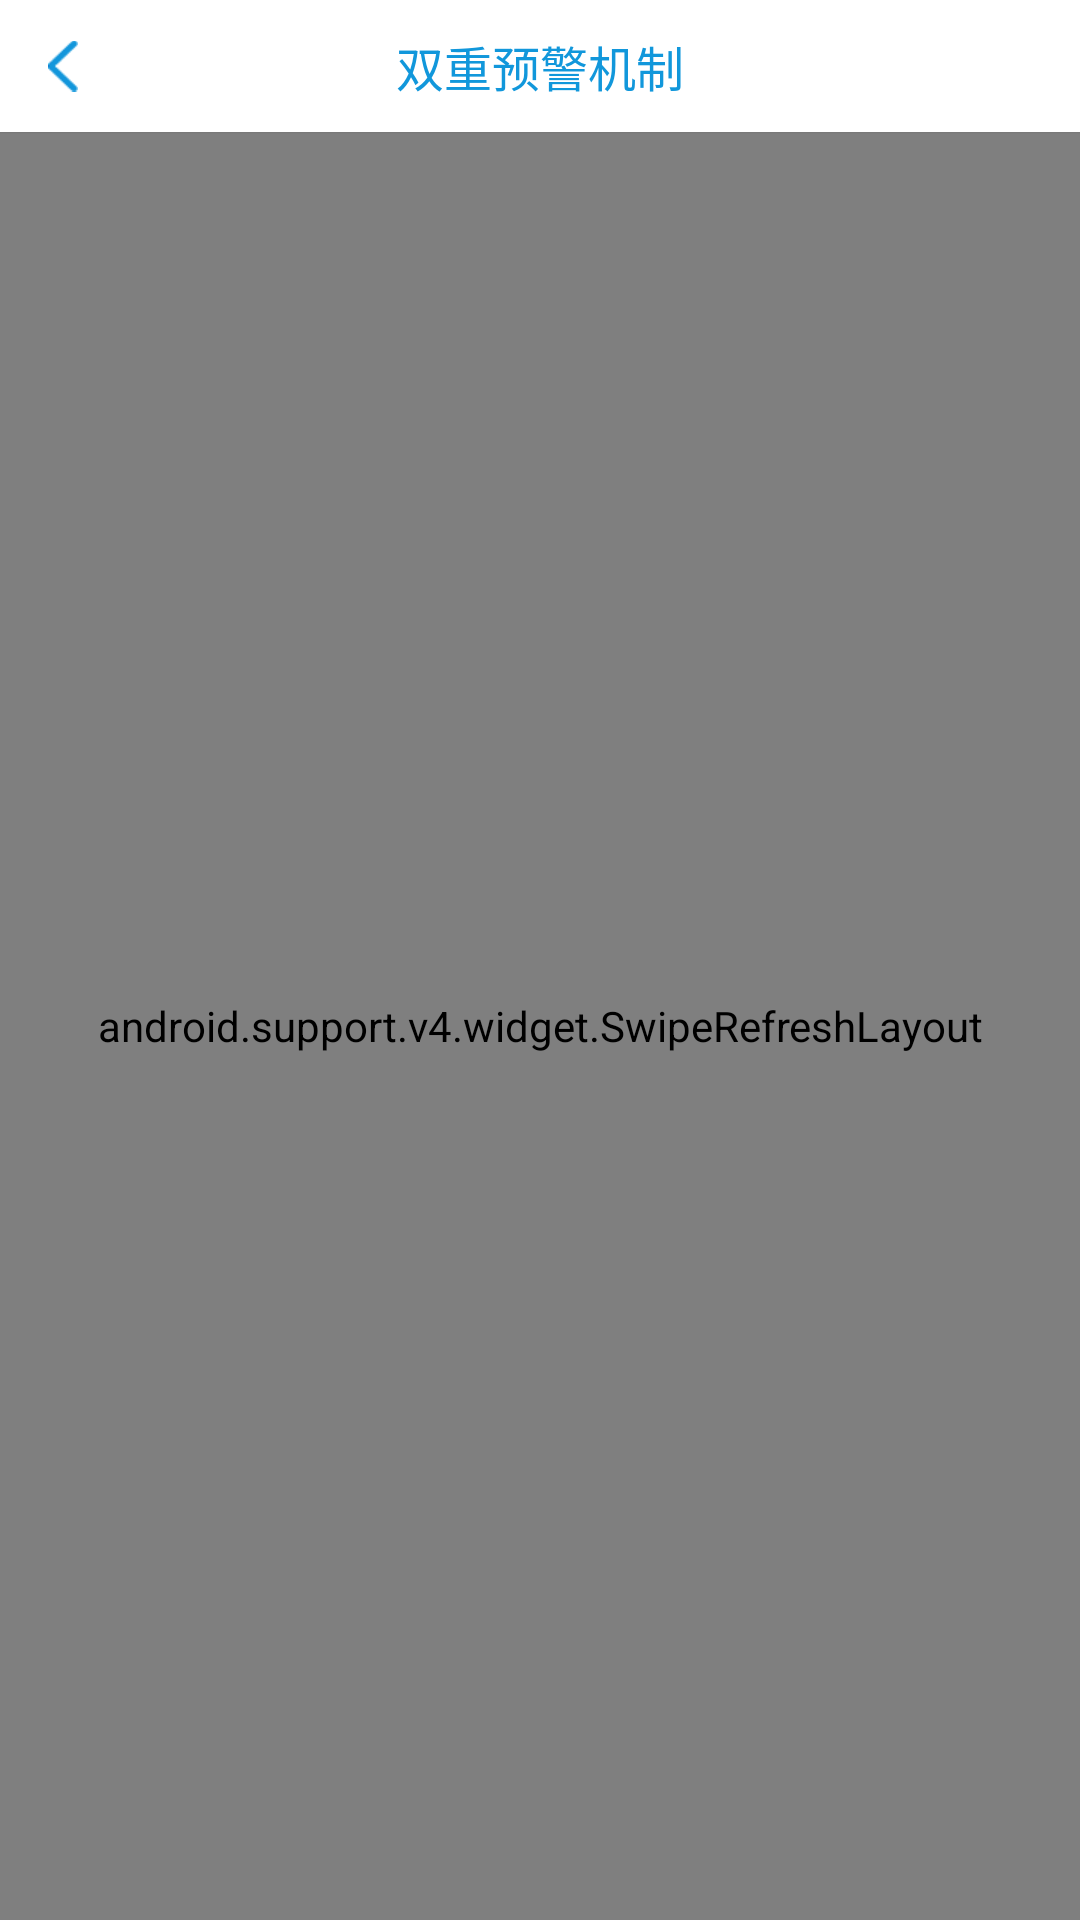

Icons on this 1080*1920 Android screen, each with its box as bbox=[x1, y1, x2, y2]:
back: bbox=[48, 41, 78, 92]
